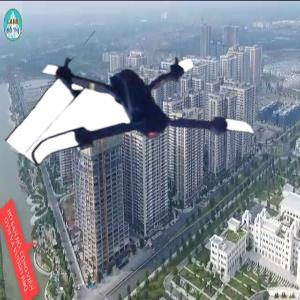drone: (37, 10, 250, 223)
